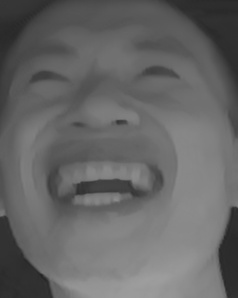eye: (128, 60, 189, 87), (28, 64, 73, 89)
mouth: (30, 145, 175, 223)
